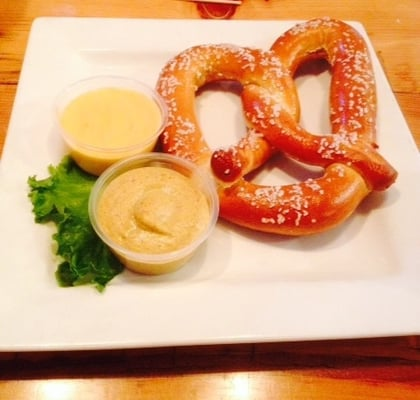curry: (26, 155, 123, 292)
sushi: (87, 153, 220, 276), (53, 75, 170, 178)
